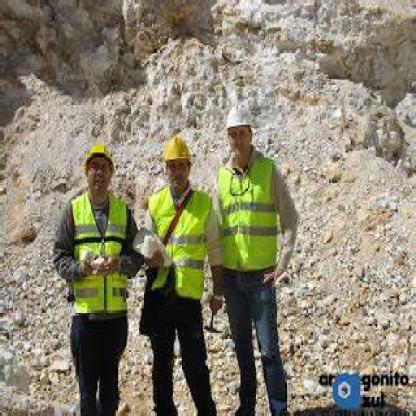person: (216, 76, 304, 413), (134, 92, 220, 414), (48, 132, 137, 411)
